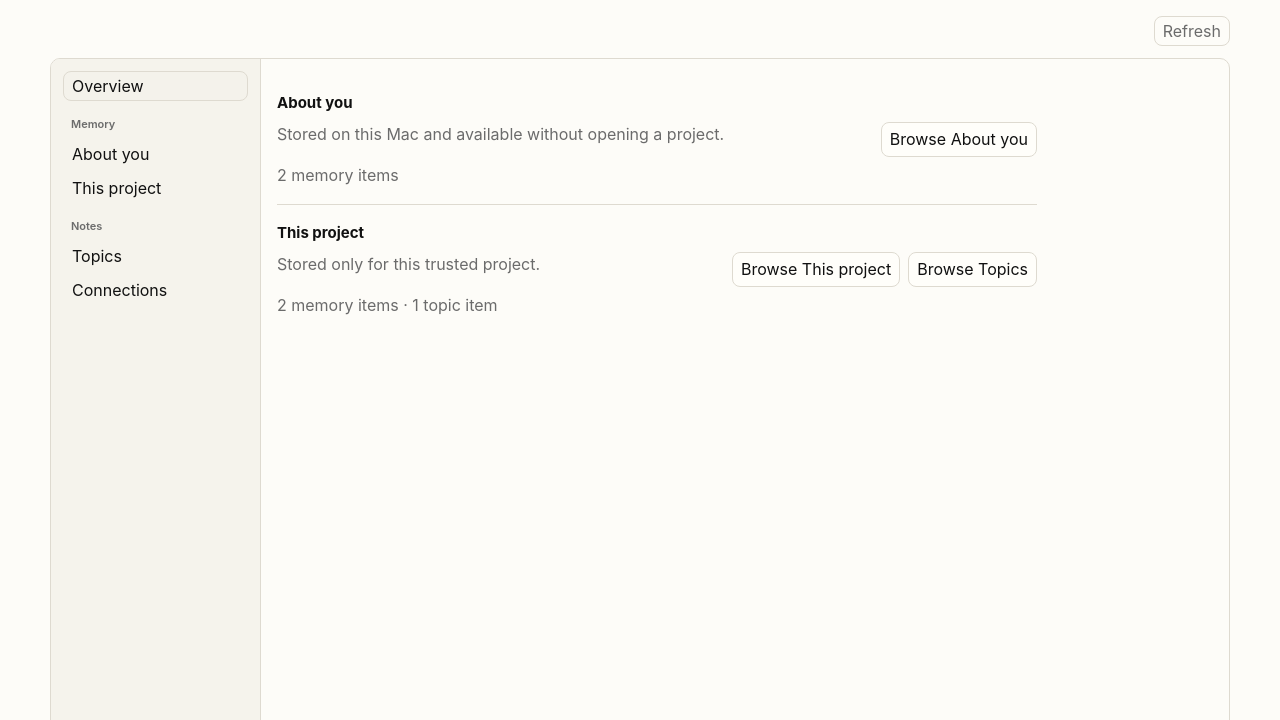
Test: LibraryPanel › shows exact topic backlinks and says connections do not choose chat context
Click the button "Topics".
click(156, 256)  # box [63,241,248,271]
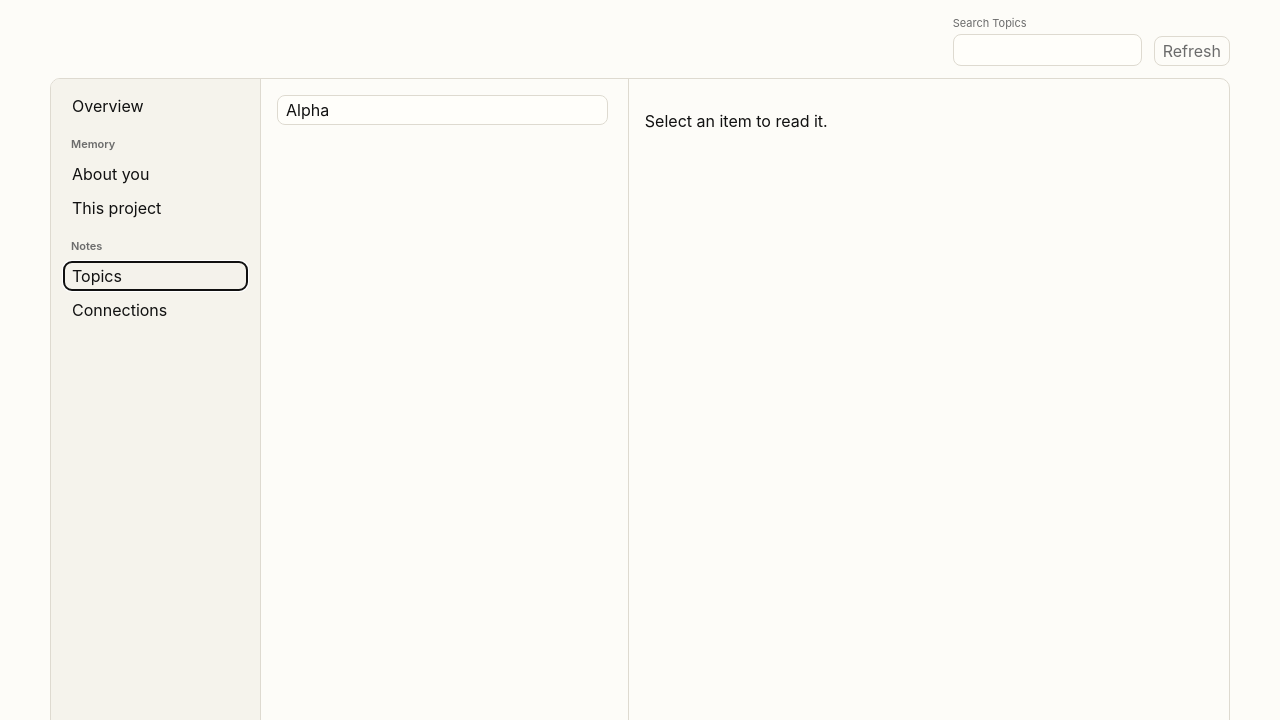
Click the button "Alpha".
click(308, 110)  # box [277,95,608,125]
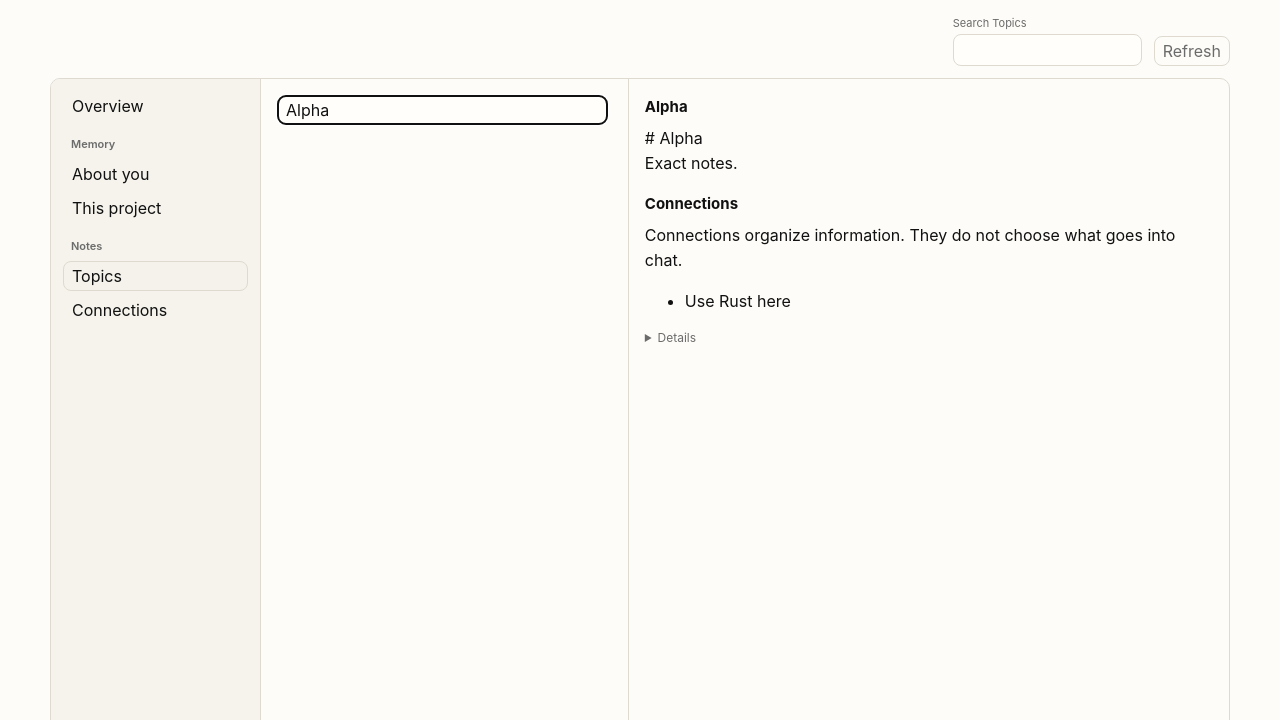
Check: the element named "Topic Alpha" shows "Exact notes.", box [645,128,738,173]
Check: the element named "Topic Alpha" shows "Use Rust here", box [685,291,791,311]
Check: the element named "Topic Alpha" shows "Connections organize information. They do not choose what goes into chat.", box [645,225,1175,270]
